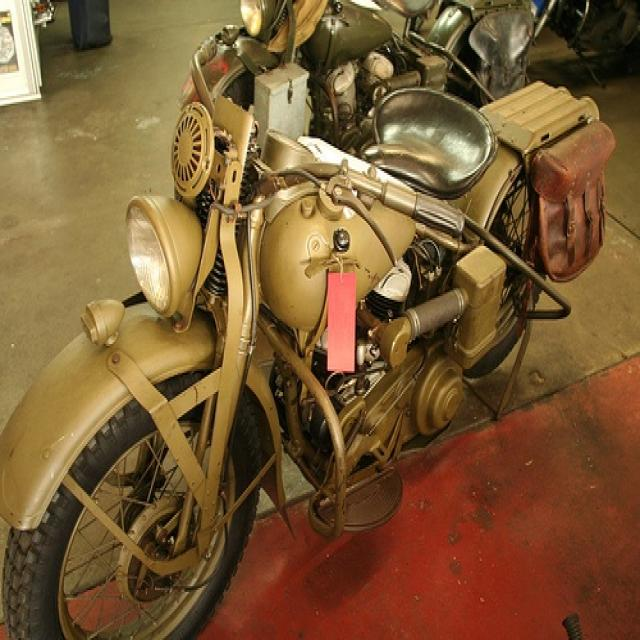motorbike: (4, 39, 616, 638), (178, 0, 532, 108)
